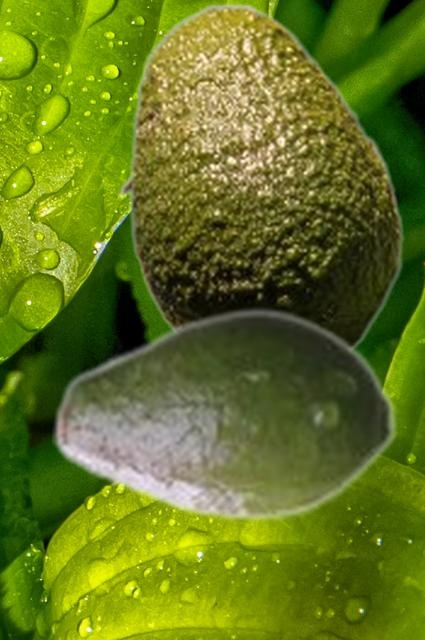avocado: (117, 2, 404, 348), (52, 306, 398, 523)
